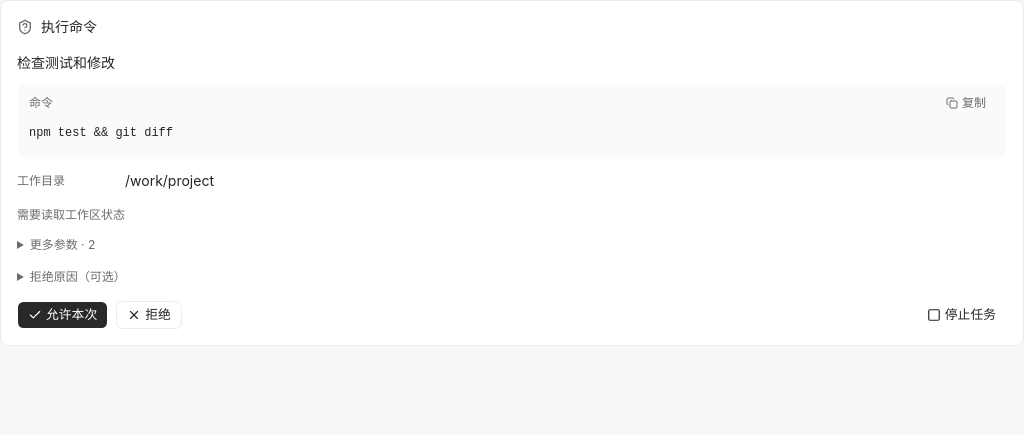
it: keeps commands readable and groups optional parameters
The image size is (1024, 435).
expect the text "npm test && git diff" is shown: met, box x1=29 y1=126 x2=173 y2=140
expect the text "/work/project" is shown: met, box x1=125 y1=172 x2=214 y2=189
Click the heading "更多参数 · 2" at (62, 244), box x1=30 y1=237 x2=95 y2=252
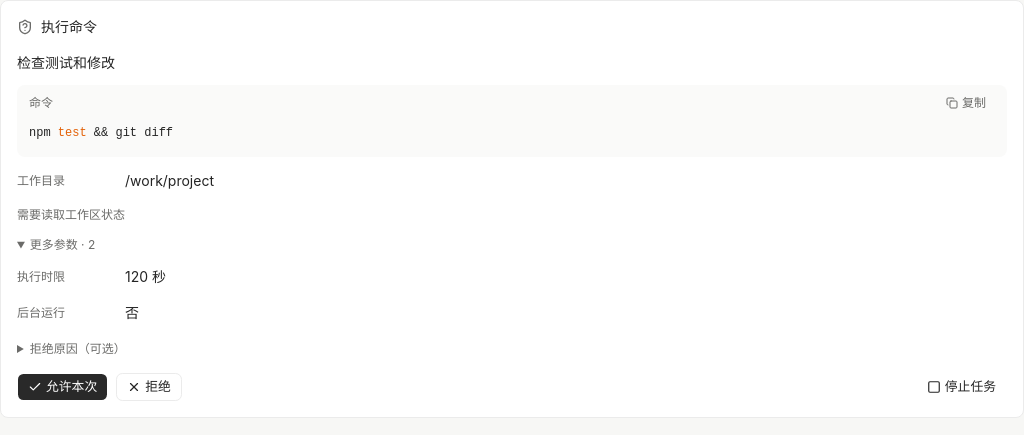
expect the text "120 秒" is shown: met, box x1=125 y1=268 x2=166 y2=285
expect the text "否" is shown: met, box x1=125 y1=304 x2=139 y2=321
